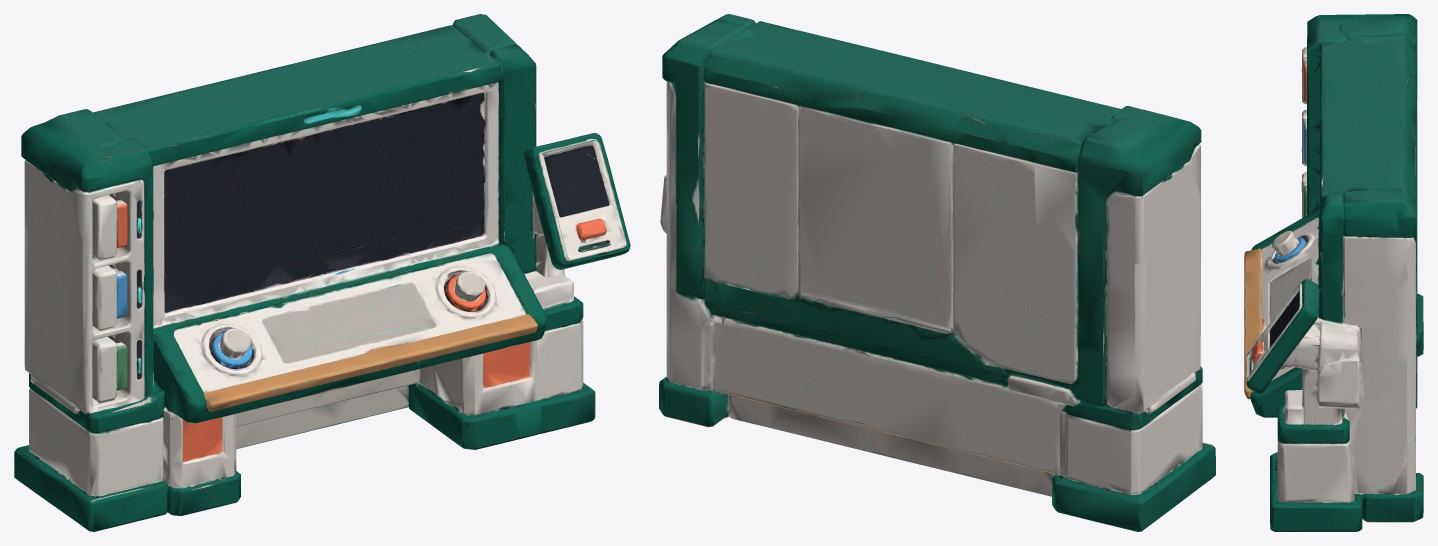
File: carbon-research-console-cozy-v1.glb
3 views of the same model, side by side, from view 1: azimuth 30°, elevation 25°; view 2: azimuth 150°, elevation 25°; view 3: azimuth 270°, elevation 25° (orthographic). The views are drawn at different scales.
Bounding box in the file's own units: 1.9 × 1.26 × 0.644.
Materials: 1 (1 with a texture image).
